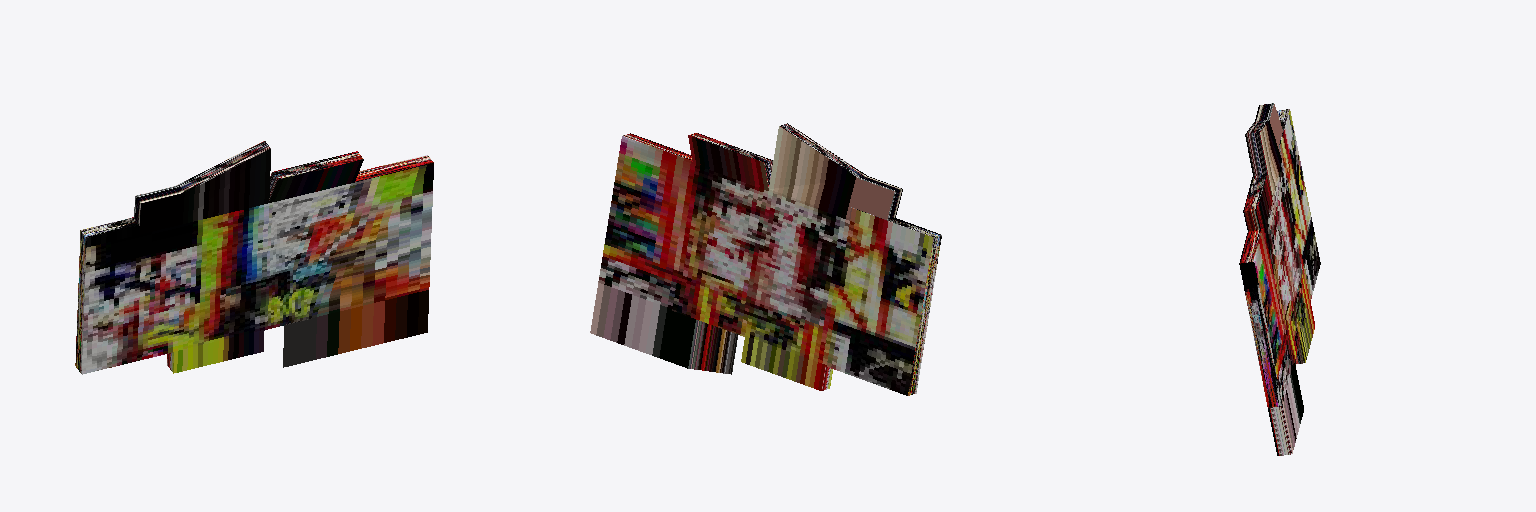
3 renders of one model, left to right at view 1: azimuth 30°, elevation 25°; view 2: azimuth 150°, elevation 25°; view 3: azimuth 270°, elevation 25°, orthographic.
Parts seen in each view (by area): view 1: PunkPoster; view 2: PunkPoster; view 3: PunkPoster.
Boxes of the visible parts, <box> form: PunkPoster: <box>75,141,433,374</box>; PunkPoster: <box>590,123,941,395</box>; PunkPoster: <box>1239,103,1320,455</box>.
Bounding box in the file's own units: 16.82 × 11.51 × 3.46.
Materials: 1 (1 with a texture image).